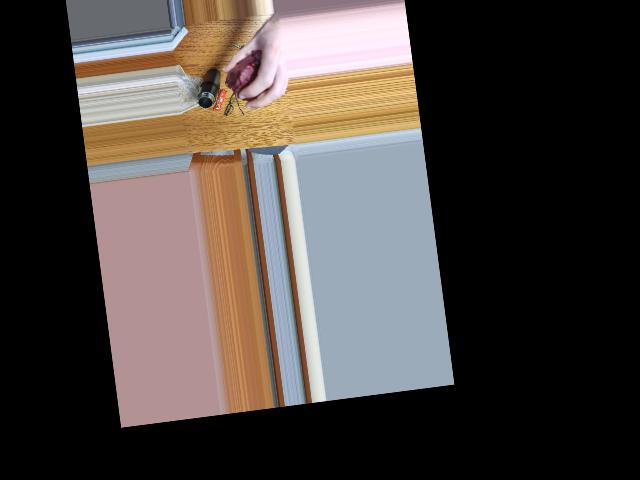onion: (225, 49, 269, 102)
